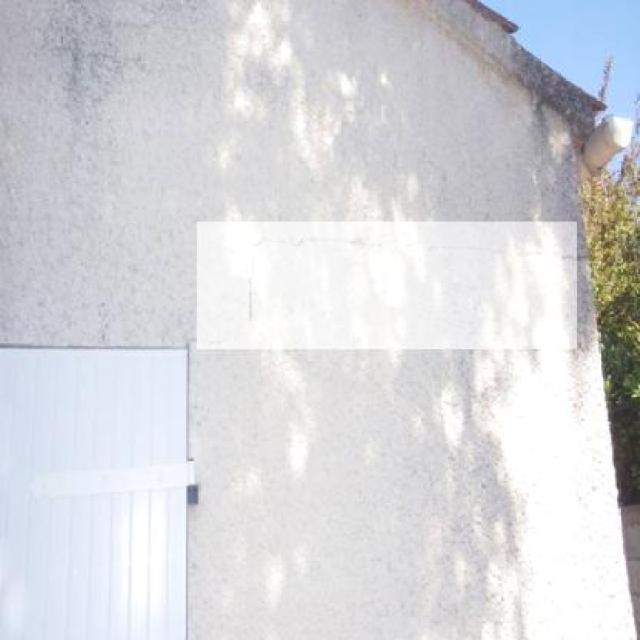Crack: (187, 212, 591, 350)
